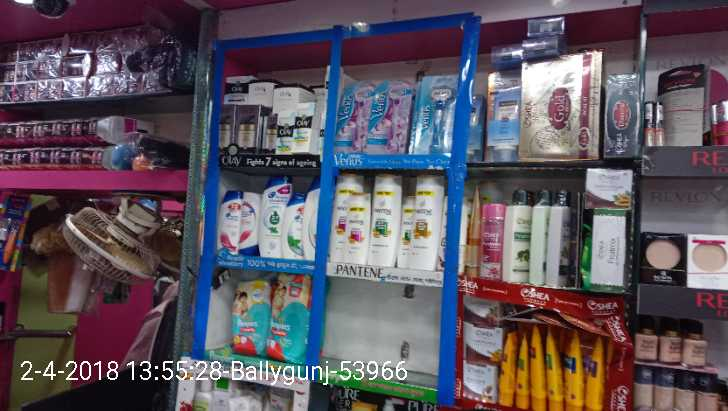venus: (410, 73, 454, 153), (372, 81, 408, 154), (337, 81, 371, 153)
